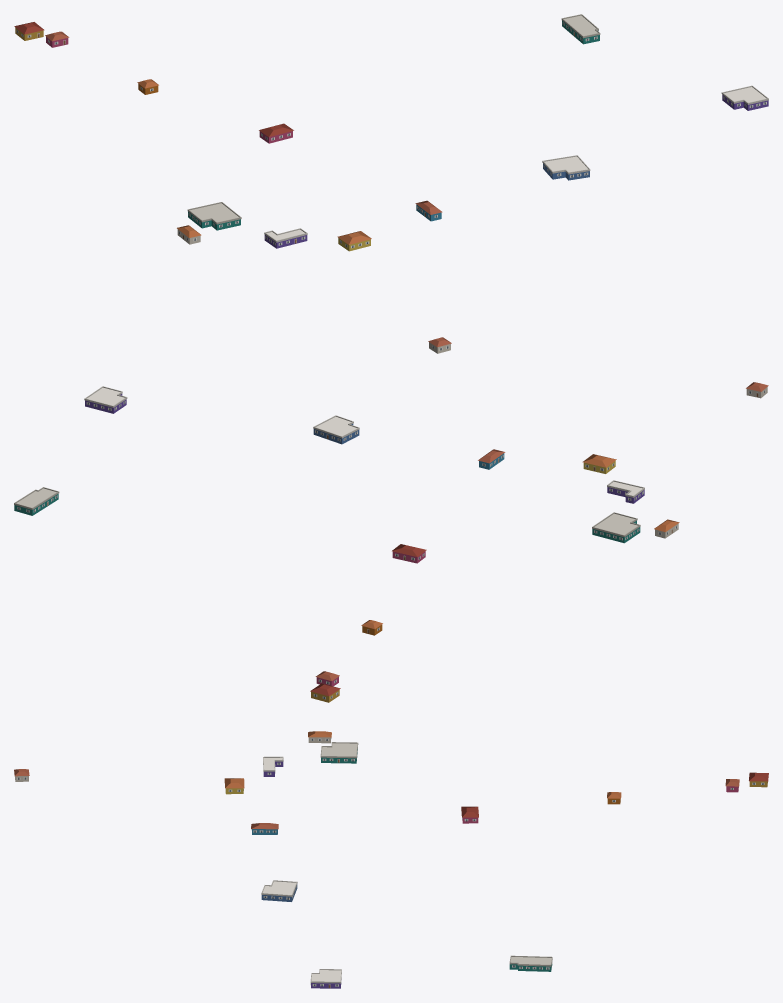
File: msb_noord_m16_m10.glb
3 renders of one model, top to bottom at view 1: azimuth 30°, elevation 25°; view 2: azimuth 150°, elevation 25°; view 3: azimuth 270°, elevation 25°, orthographic. The views are drawn at different scales.
Parts seen in each view (by area): view 1: msb_noord_m16_m10_lod0; view 2: msb_noord_m16_m10_lod0; view 3: msb_noord_m16_m10_lod0.
Boxes of the visible parts, <box> form: msb_noord_m16_m10_lod0: <box>14,14,768,353</box>; msb_noord_m16_m10_lod0: <box>14,382,768,702</box>; msb_noord_m16_m10_lod0: <box>14,731,768,988</box>.
Size of what is drawn, in the model's own units: 304 by 9.97 by 393.
3 materials, 1 textured.
